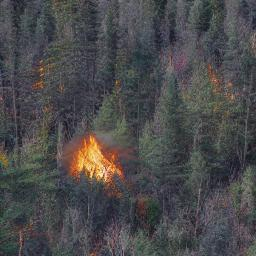Small fire: (31, 107, 160, 210)
